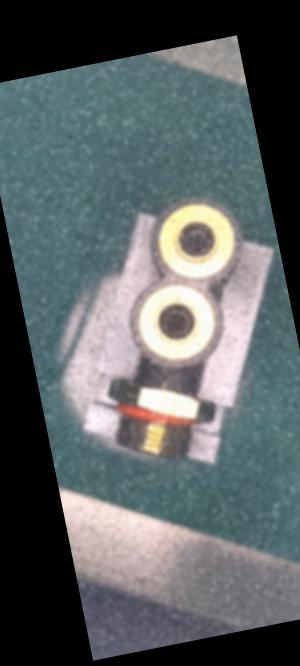craze: (154, 365, 173, 392)
